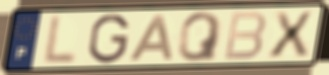A: (126, 13, 175, 63)
B: (221, 10, 269, 62)
G: (87, 13, 132, 66)
L: (40, 13, 80, 67)
Q: (176, 10, 225, 64)
X: (266, 9, 315, 60)
